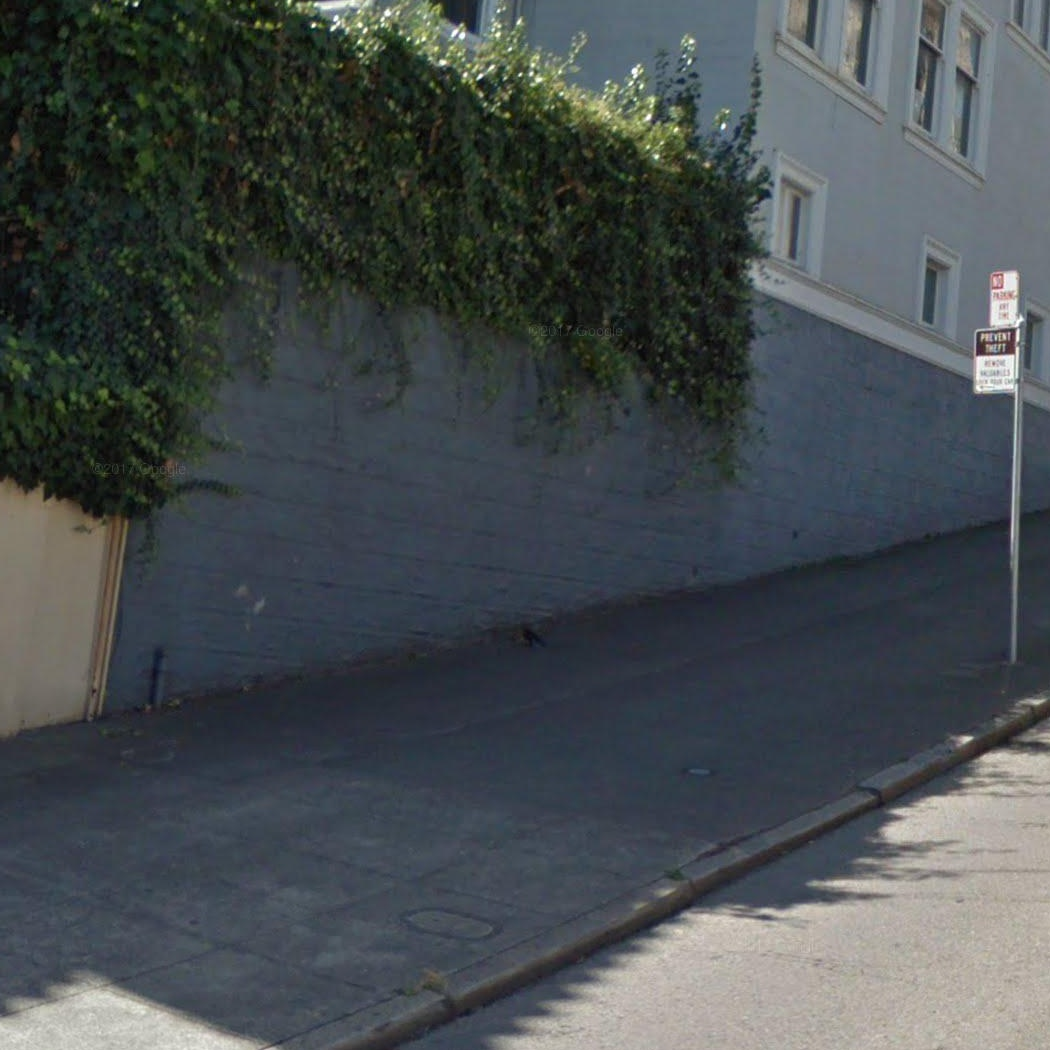No Parking Anytime: (988, 268, 1020, 328)
